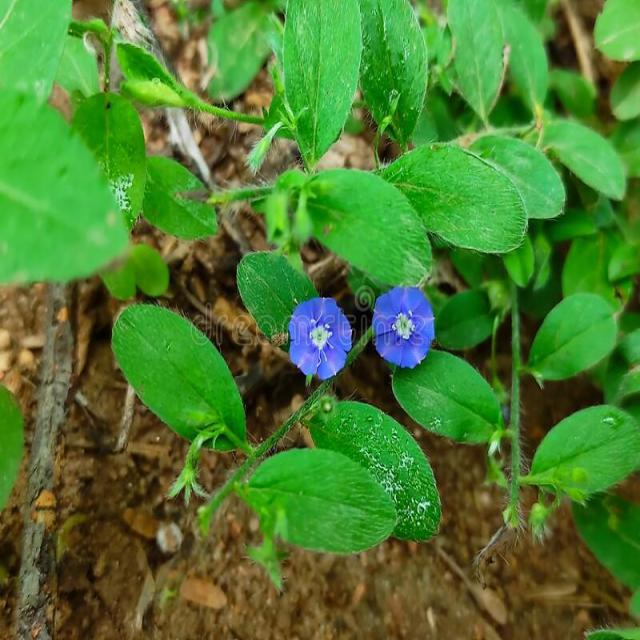organic waste: (285, 282, 353, 378), (376, 278, 442, 364)
